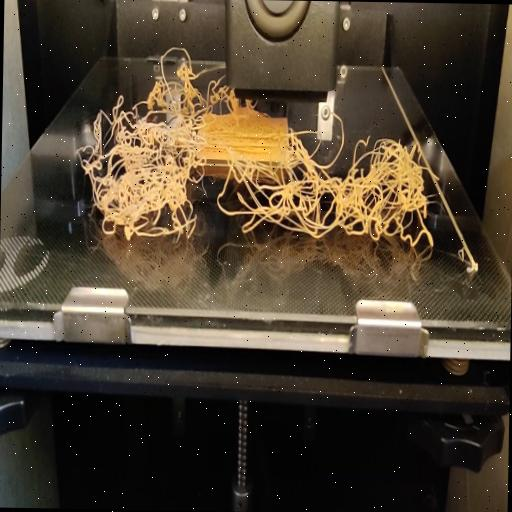spaghetti: (66, 96, 445, 256), (139, 40, 228, 102)
